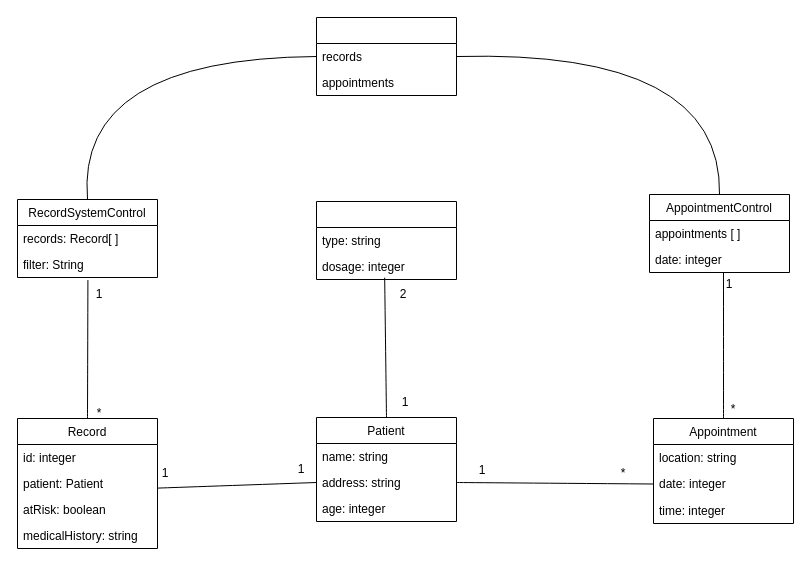
Some shapes in this 811 by 569 pixel diagram are drawn without their labels. The box of each missing label's shape, as (x1, y1, x2, y2) in pixels:
Display: (316, 16, 456, 96)
Vaccine: (316, 200, 456, 280)
